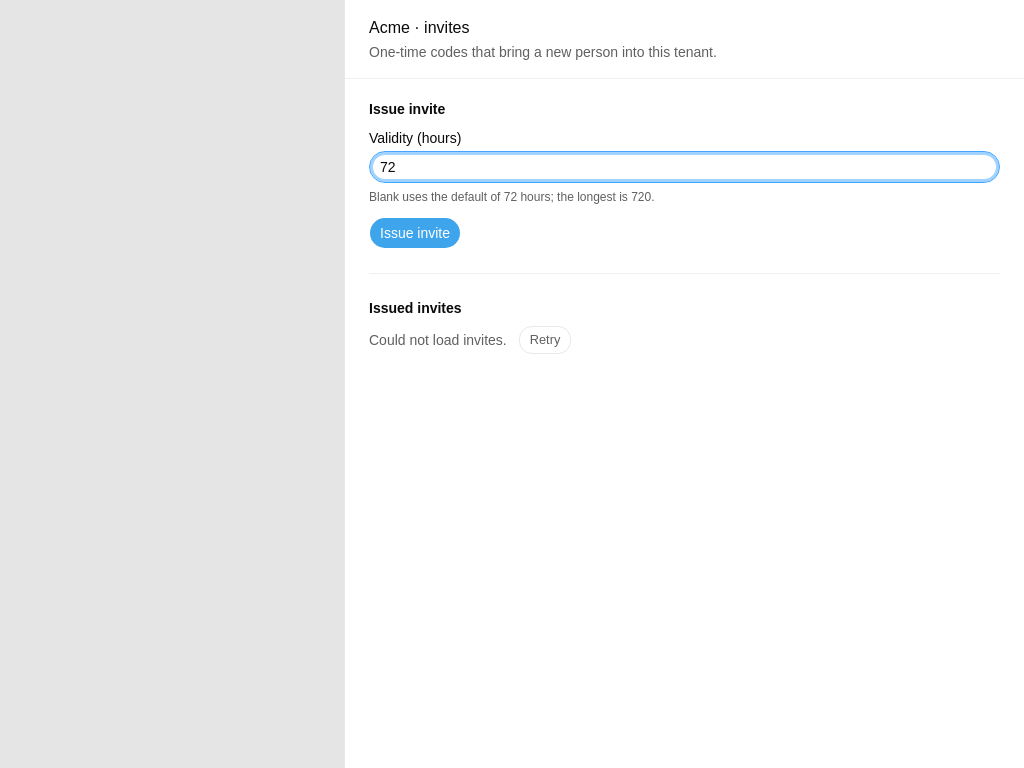
Test case: TenantInvitesSheet list › a load failure is a distinct message, not the empty state, and retry works
Expected: the element with test id "invite-list-load-failed" is shown, [369,326,571,354]
Click the button "Retry": (545, 340) [519,326,571,354]
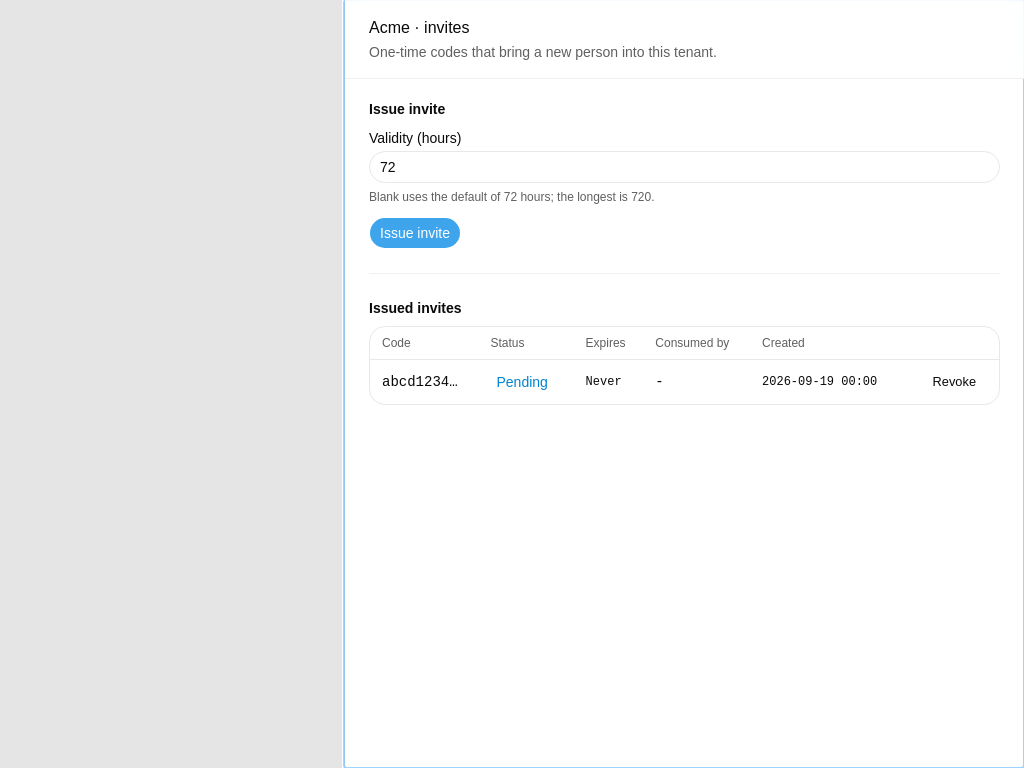
Expected: the row with test id "invite-row-1" is shown, [370,360,999,404]
